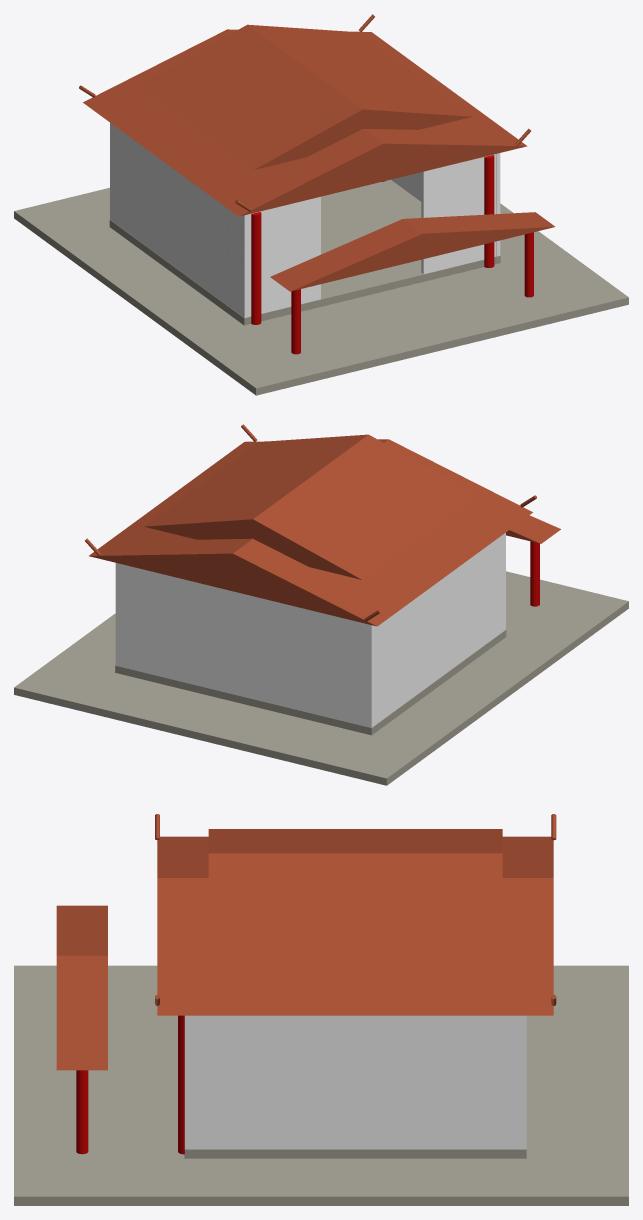
The model's file is source-edit.glb.
3 views of the same model, one above another, from view 1: azimuth 30°, elevation 25°; view 2: azimuth 150°, elevation 25°; view 3: azimuth 270°, elevation 25° (orthographic). The views are drawn at different scales.
Visible parts, largest first — view 1: Courtyard_Base, Upper_Layered_Roof, Lower_Layered_Roof, Side_Wall, Hall_Floor, Courtyard_Gateway_Roof, Front_Wall, Front_Wall.001, Hall_Column, Hall_Column.003, Side_Wall.001, Gateway_Column.001 (+1 smaller); view 2: Courtyard_Base, Upper_Layered_Roof, Rear_Wall, Lower_Layered_Roof, Side_Wall, Hall_Floor, Courtyard_Gateway_Roof, Gateway_Column, Side_Wall.001; view 3: Courtyard_Base, Side_Wall.001, Upper_Layered_Roof, Lower_Layered_Roof, Courtyard_Gateway_Roof, Hall_Floor, Gateway_Column.001, Hall_Column.003.
Boxes of the visible parts, bbox=[...] form: Courtyard_Base: bbox=[14, 187, 628, 395]; Upper_Layered_Roof: bbox=[138, 24, 472, 170]; Lower_Layered_Roof: bbox=[83, 29, 527, 216]; Side_Wall: bbox=[110, 123, 248, 317]; Hall_Floor: bbox=[109, 179, 500, 325]; Courtyard_Gateway_Roof: bbox=[270, 212, 555, 291]; Front_Wall: bbox=[248, 196, 320, 316]; Front_Wall.001: bbox=[421, 154, 495, 274]; Hall_Column: bbox=[251, 212, 261, 324]; Hall_Column.003: bbox=[484, 155, 494, 267]; Side_Wall.001: bbox=[391, 153, 500, 256]; Gateway_Column.001: bbox=[524, 232, 533, 297]; Courtyard_Base: bbox=[14, 571, 628, 785]; Upper_Layered_Roof: bbox=[144, 434, 477, 579]; Rear_Wall: bbox=[120, 564, 367, 726]; Lower_Layered_Roof: bbox=[89, 439, 532, 626]; Side_Wall: bbox=[367, 532, 505, 727]; Hall_Floor: bbox=[115, 630, 506, 735]; Courtyard_Gateway_Roof: bbox=[506, 515, 560, 543]; Gateway_Column: bbox=[530, 541, 539, 606]; Side_Wall.001: bbox=[115, 563, 119, 666]; Courtyard_Base: bbox=[14, 965, 628, 1205]; Side_Wall.001: bbox=[184, 1015, 526, 1149]; Upper_Layered_Roof: bbox=[208, 829, 502, 964]; Lower_Layered_Roof: bbox=[157, 836, 553, 1015]; Courtyard_Gateway_Roof: bbox=[56, 905, 107, 1070]; Hall_Floor: bbox=[184, 1149, 526, 1158]; Gateway_Column.001: bbox=[76, 1070, 88, 1154]; Hall_Column.003: bbox=[178, 1015, 184, 1154].
Bounding box in the file's own units: 16 × 7.6 × 18.
